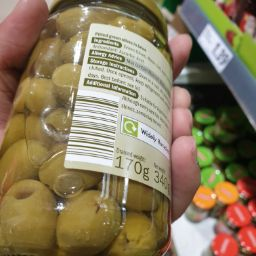Olives: (12, 3, 192, 256), (13, 166, 140, 251), (22, 87, 77, 250), (59, 182, 125, 253), (13, 118, 64, 206), (6, 173, 59, 254), (38, 38, 80, 93), (17, 71, 57, 118)
